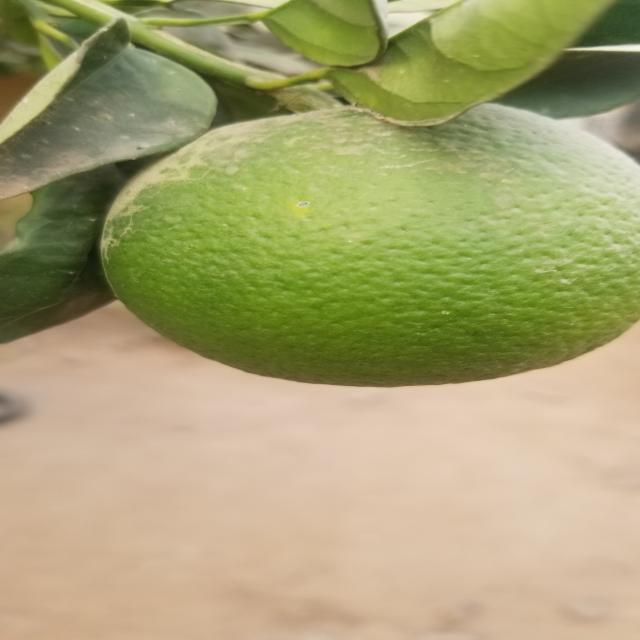Unripe: (98, 103, 640, 392)
